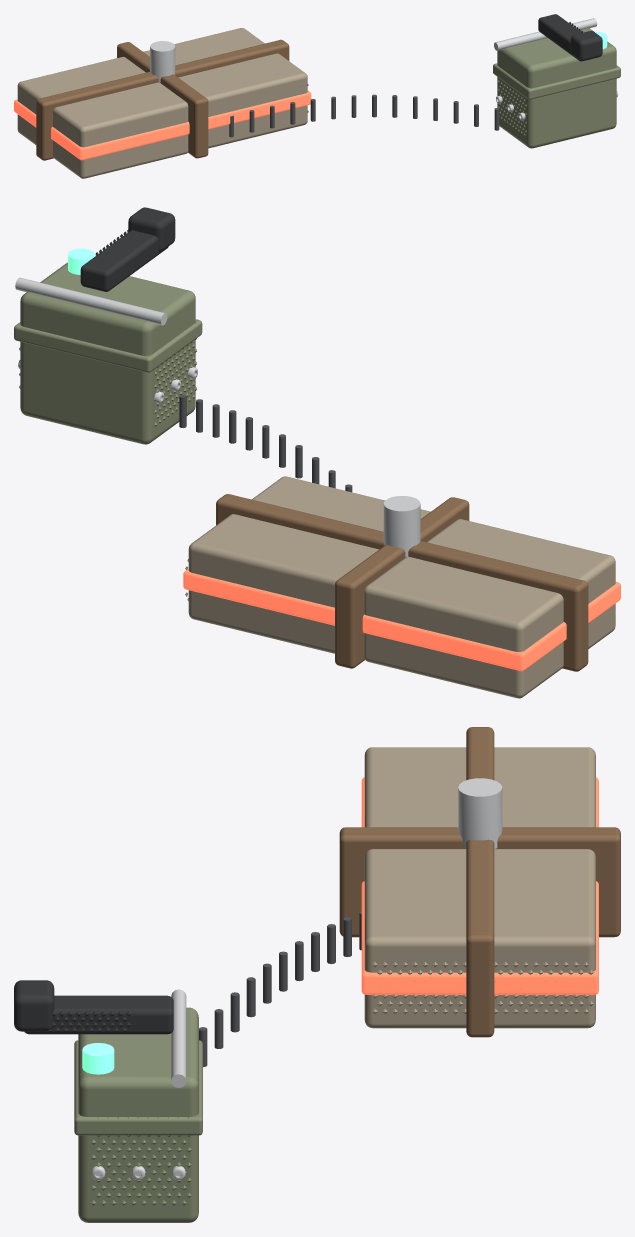
Rendered from mega-weapon-pack-demolition-charge-69fe4f85__33363.glb.
The picture shows the model from 3 angles, top to bottom: view 1: azimuth 30°, elevation 25°; view 2: azimuth 150°, elevation 25°; view 3: azimuth 270°, elevation 25°; orthographic projection. The views are drawn at different scales.
Visible parts, largest first — view 1: demolition-charge, clacker; view 2: demolition-charge, clacker; view 3: demolition-charge, clacker.
Part boxes in pixels (left/top/right/bottom): demolition-charge: left=14, top=18, right=620, bottom=178; clacker: left=538, top=14, right=602, bottom=61; demolition-charge: left=14, top=248, right=620, bottom=698; clacker: left=80, top=207, right=175, bottom=291; demolition-charge: left=74, top=727, right=620, bottom=1222; clacker: left=14, top=980, right=173, bottom=1034.
Bounding box in the file's own units: 0.475 × 0.11 × 0.302.
